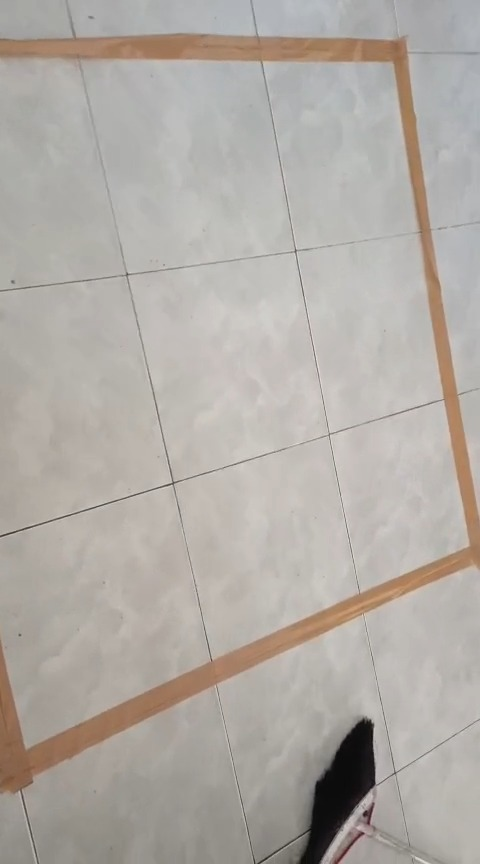floor marking: (0, 34, 479, 790)
